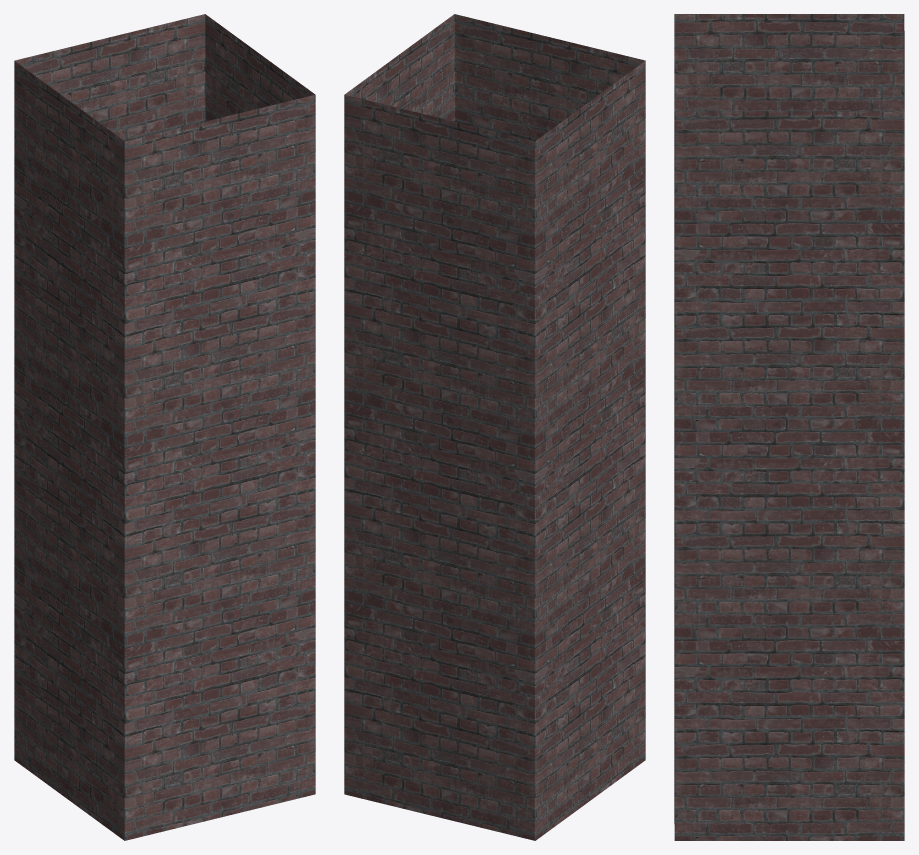
File: Wall_ABC_Brick_Pilar_1x.FBX
3 views of the same model, side by side, from view 1: azimuth 30°, elevation 25°; view 2: azimuth 150°, elevation 25°; view 3: azimuth 270°, elevation 25° (orthographic). The views are drawn at different scales.
Parts seen in each view (by area): view 1: Wall_ABC_Brick_Pilar_1x; view 2: Wall_ABC_Brick_Pilar_1x; view 3: Wall_ABC_Brick_Pilar_1x.
Part boxes in pixels (x1,y1,x2,y2): Wall_ABC_Brick_Pilar_1x: (14,14,315,840); Wall_ABC_Brick_Pilar_1x: (344,14,645,840); Wall_ABC_Brick_Pilar_1x: (674,14,904,840).
Bounding box in the file's own units: 100 × 350 × 100.
1 material, 1 textured.
